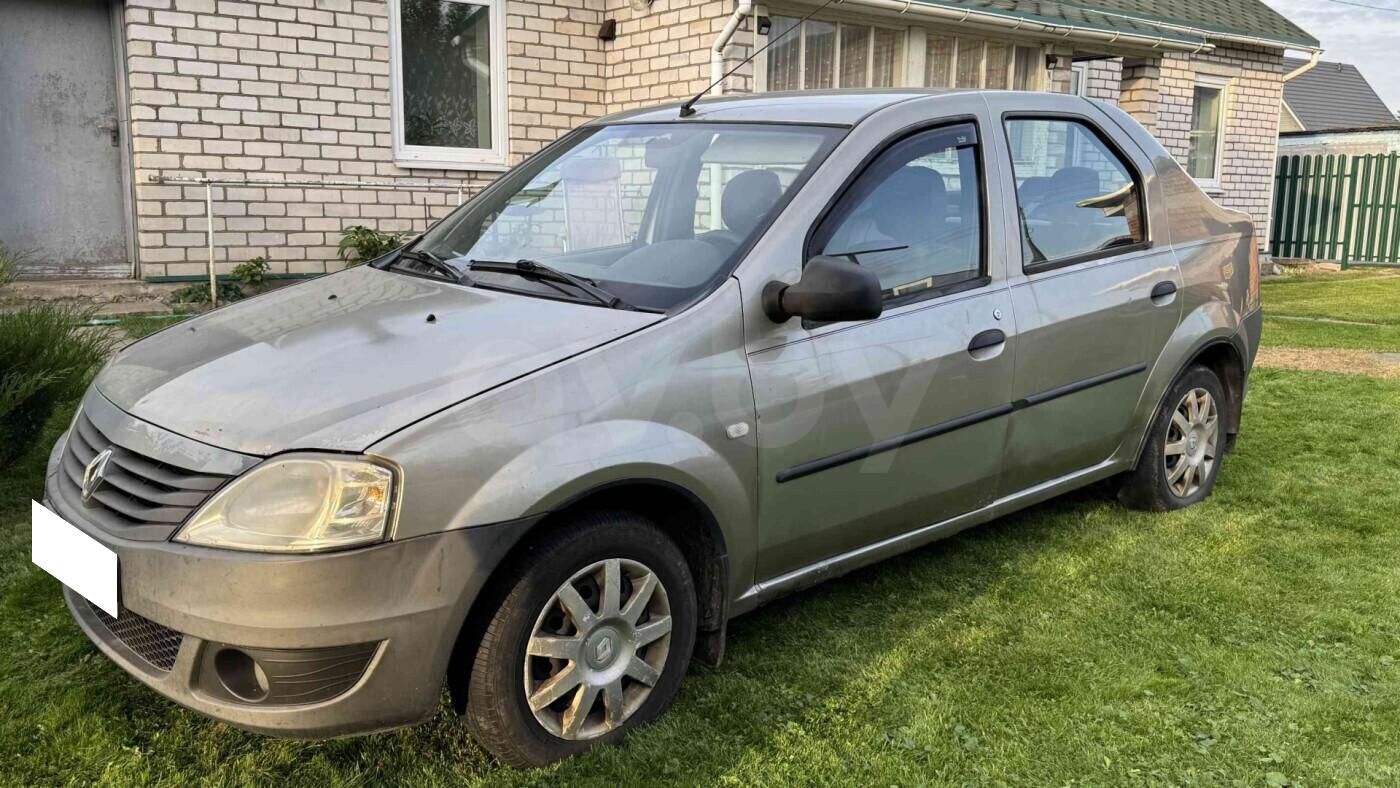Logan_2008-2015: (35, 91, 1270, 753)
